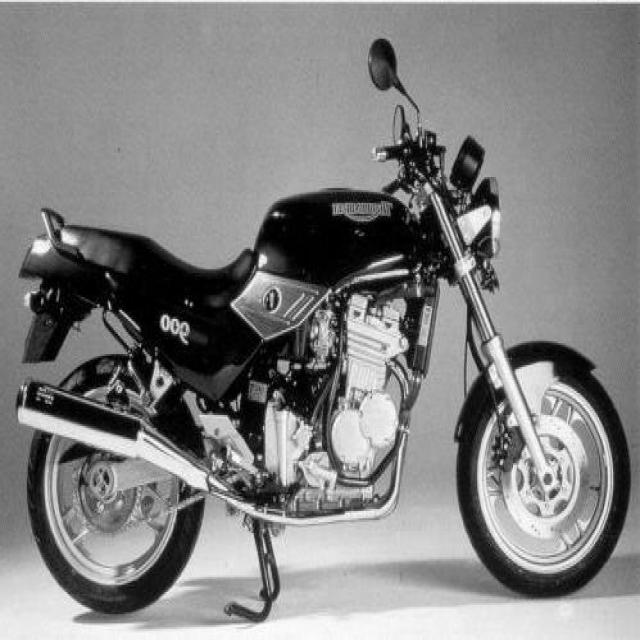Motorcycle: (18, 104, 631, 615)
